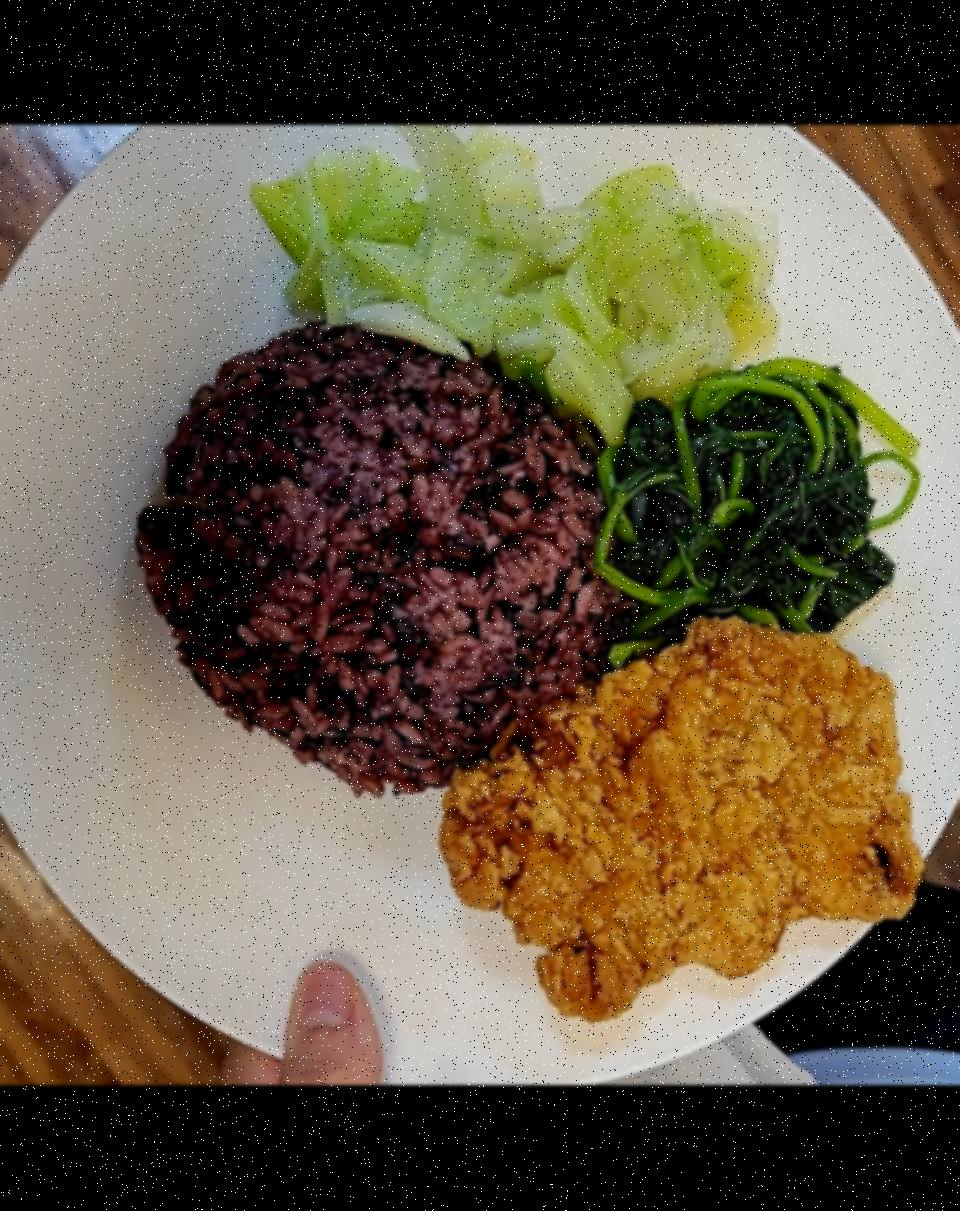kara chicken leg steak: (436, 611, 938, 1028)
plate: (0, 136, 960, 1086)
purple rice: (118, 319, 622, 797)
side dish: (238, 161, 780, 427), (594, 348, 892, 675)
